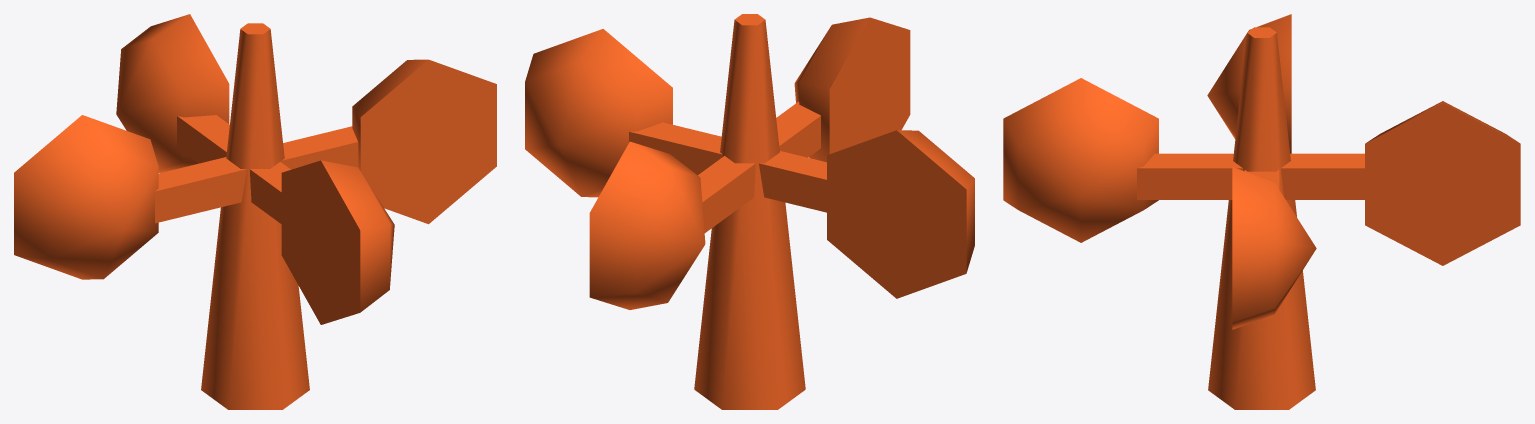
Rendered from spinner.fbx.
3 renders of one model, left to right at view 1: azimuth 30°, elevation 25°; view 2: azimuth 150°, elevation 25°; view 3: azimuth 270°, elevation 25°, orthographic. The views are drawn at different scales.
Parts seen in each view (by area): view 1: Spinner; view 2: Spinner; view 3: Spinner.
Part boxes in pixels (bbox=[...]): Spinner: bbox=[14, 14, 496, 409]; Spinner: bbox=[525, 14, 974, 409]; Spinner: bbox=[1003, 14, 1520, 409].
Bounding box in the file's own units: 258 × 258 × 197.
